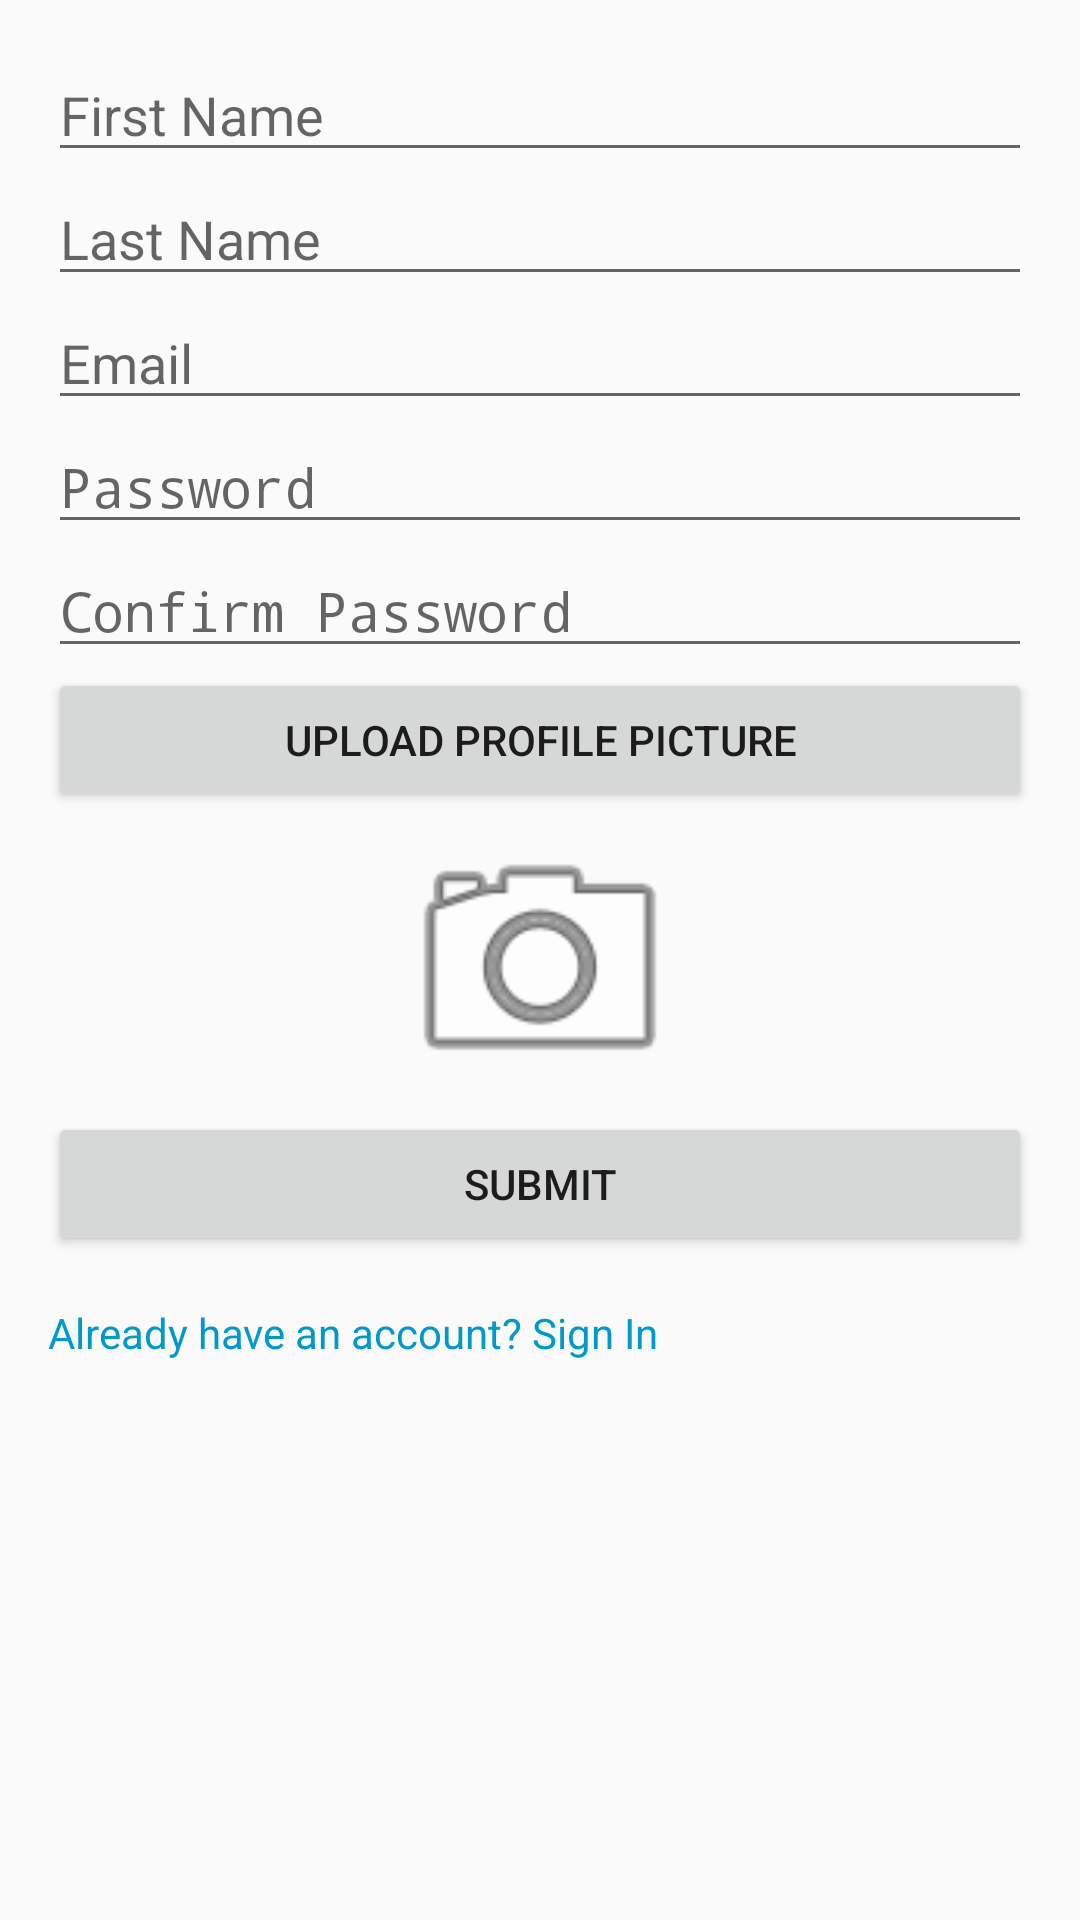

Screen size 1080px x 1920px. Icon name, then its center in pixels as (x=x, y=y):
camera: (x=540, y=957)
